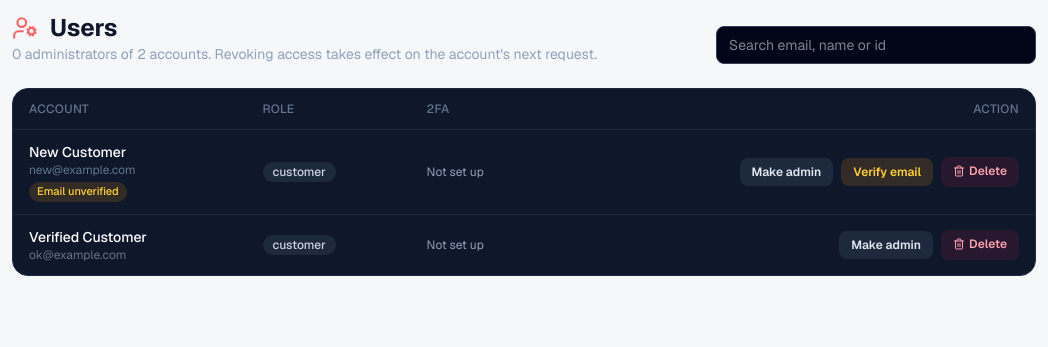
AdminUsersPage: verify email › reports a refusal without pretending the account changed
Click the button "Verify email".
click(887, 172)  # box [841,158,933,186]
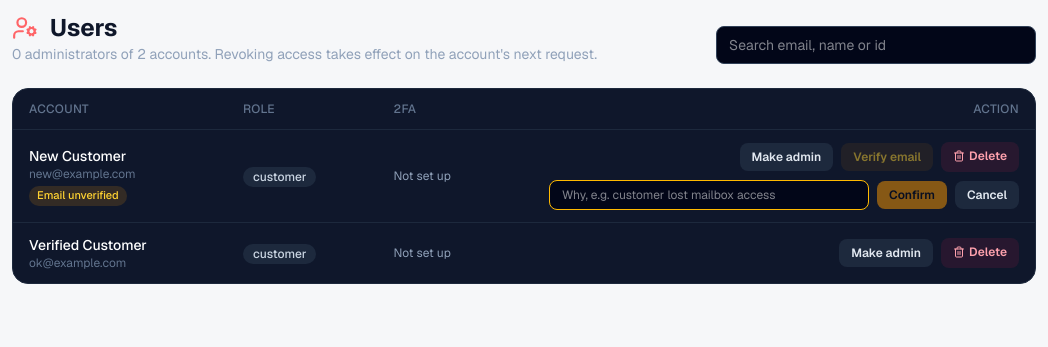
Type "trying without permission" into the field named "reason".
click(709, 195); type("trying without permission")  # box [549,180,869,210]
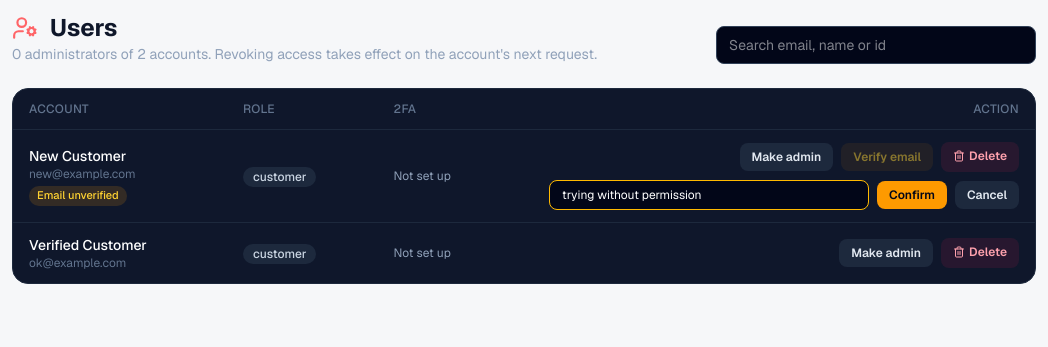
Click the button "Confirm".
click(912, 195)  # box [877,181,947,209]
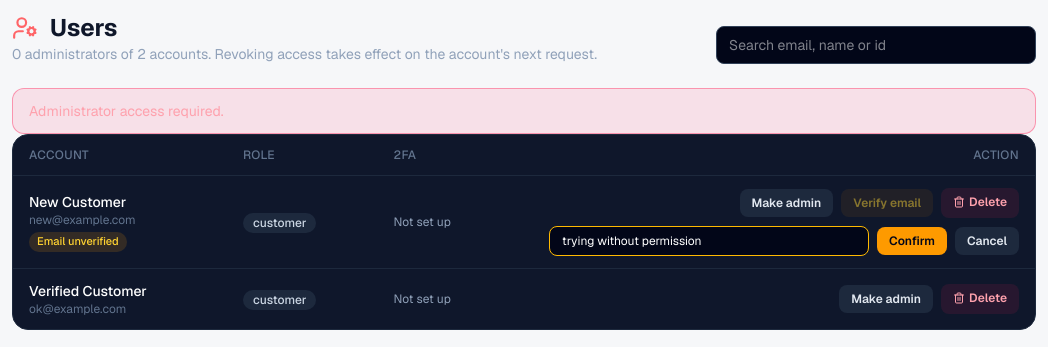
Expected: the text "Email unverified" is shown, [29,232,127,252]
Now the message reads "Administrator access required.", box [29,102,224,120]
